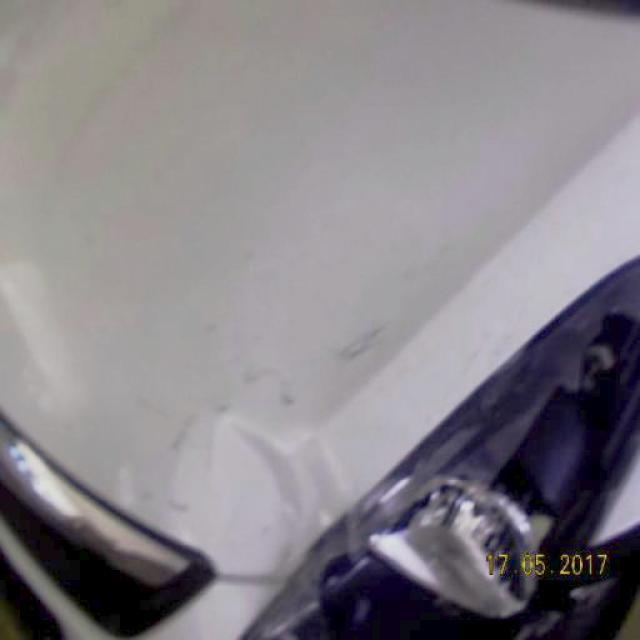car damage: (200, 415, 354, 579)
